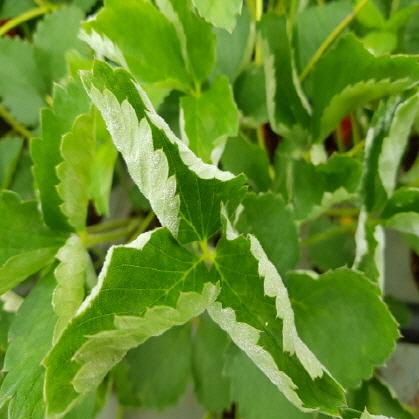Powdery Mildew Leaf: (38, 224, 221, 418), (78, 55, 250, 243), (204, 205, 347, 418), (75, 0, 195, 109), (254, 10, 315, 148), (359, 91, 418, 217), (179, 72, 239, 163), (348, 204, 386, 300)
